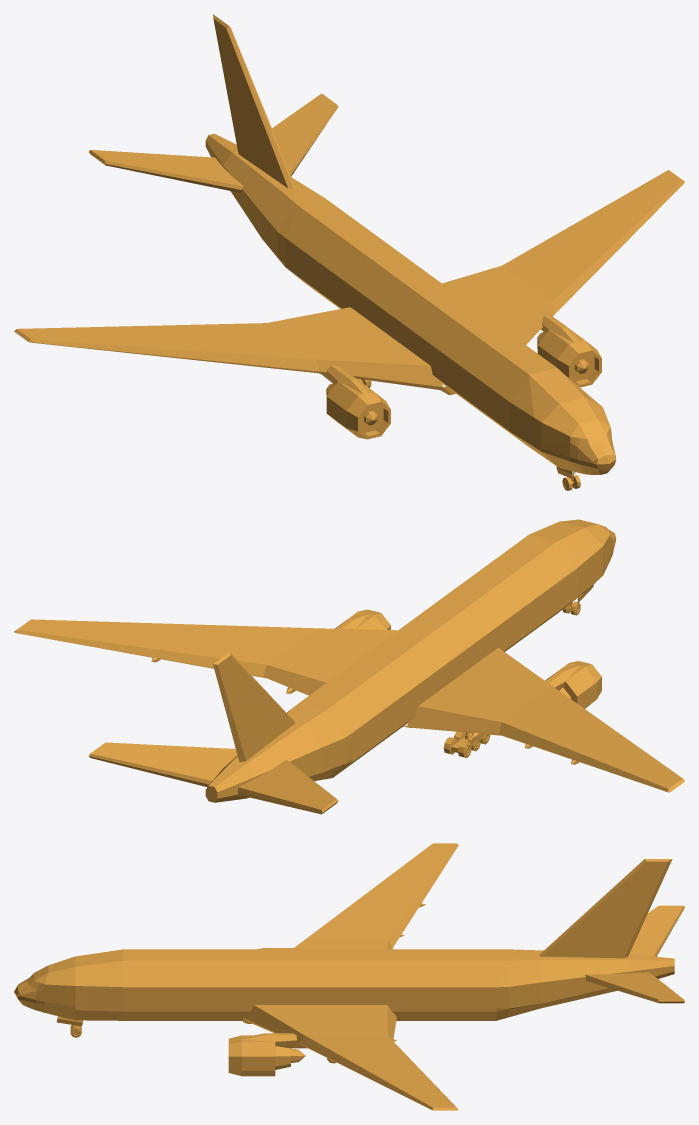
Rendered from plane-passenger.glb.
The picture shows the model from 3 angles, top to bottom: view 1: azimuth 30°, elevation 25°; view 2: azimuth 150°, elevation 25°; view 3: azimuth 270°, elevation 25°; orthographic projection. The views are drawn at different scales.
Visible parts, largest first — view 1: plane-passenger-base; view 2: plane-passenger-base; view 3: plane-passenger-base.
Part boxes in pixels (left/top/right/bottom): plane-passenger-base: left=14, top=14, right=684, bottom=483; plane-passenger-base: left=14, top=519, right=684, bottom=814; plane-passenger-base: left=14, top=843, right=684, bottom=1110.
Bounding box in the file's own units: 60.97 × 18.84 × 64.92.
